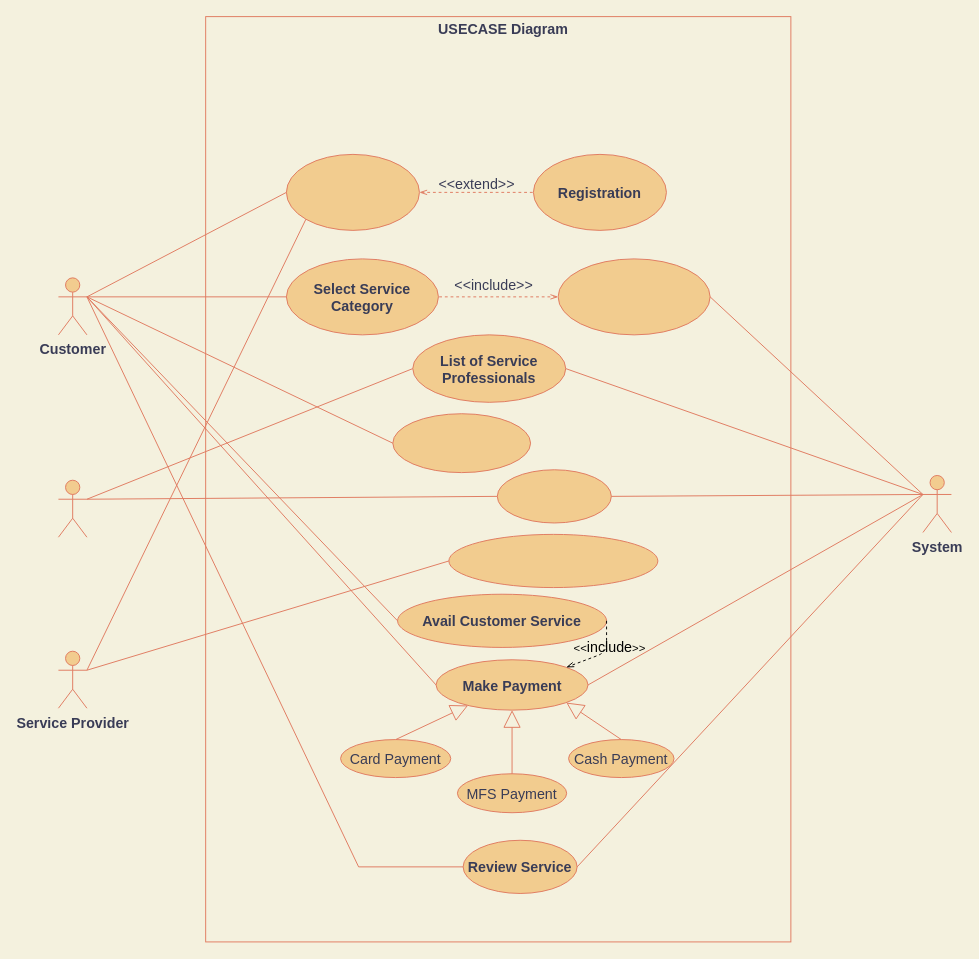
Some shapes in this 979 by 959 pixel diagram are drawn without their labels. The shapes that lost their labels are listed below. From the top down, each one's centre as x and y in pixels, then its label:
At (352,191): "Login".
At (633,296): "Services".
At (461,443): "Make Service Request".
At (72,508): "Employee".
At (553,496): "Process Request".
At (553,560): "Provide Service".
